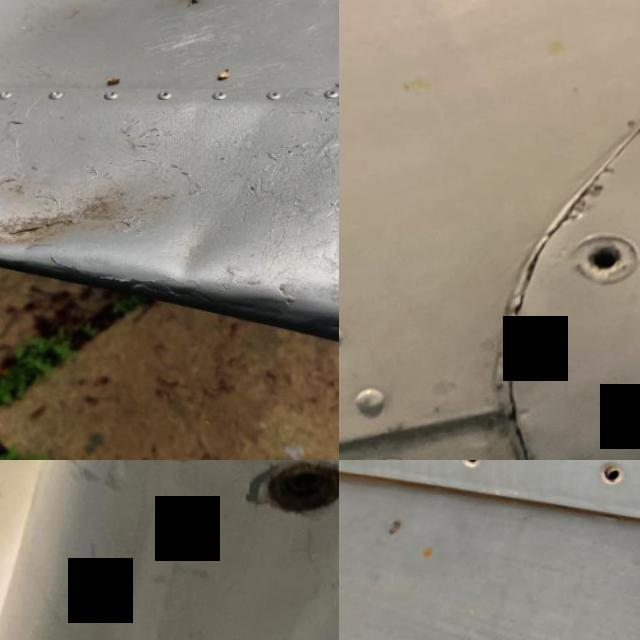Crack: (468, 204, 560, 460)
Dent: (137, 188, 272, 322)
Missing_Fastener: (259, 468, 339, 511), (577, 235, 638, 282), (587, 460, 640, 501), (446, 460, 503, 482)
